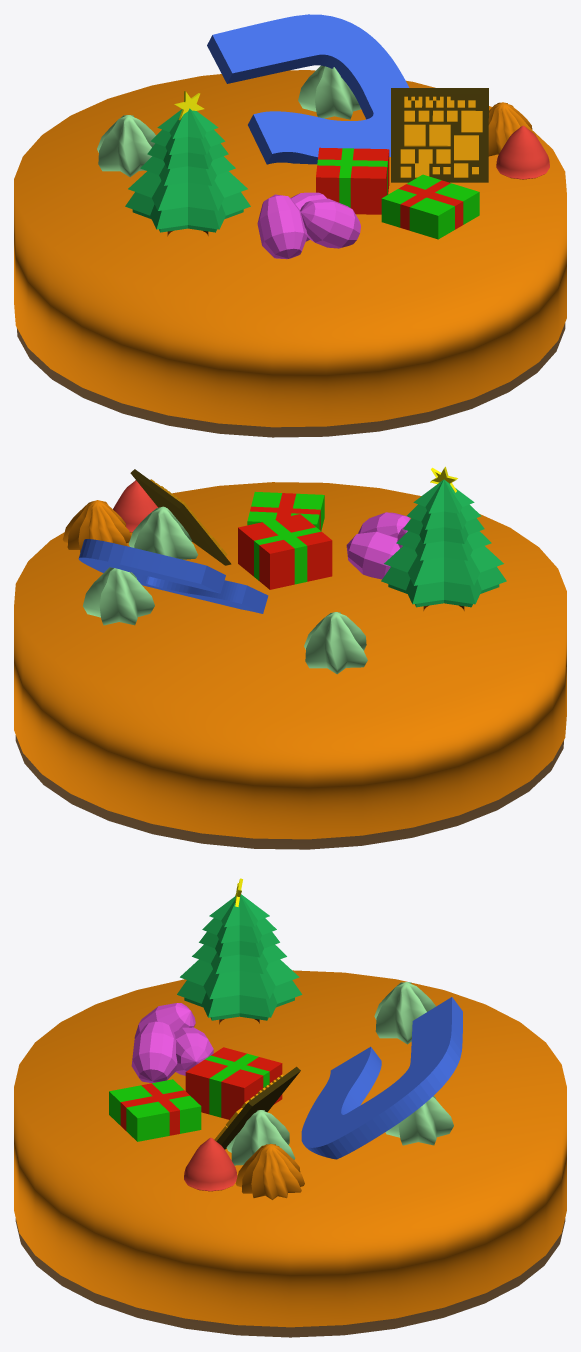
The model's file is FOXXI_MC.glb.
The picture shows the model from 3 angles, top to bottom: view 1: azimuth 30°, elevation 25°; view 2: azimuth 150°, elevation 25°; view 3: azimuth 270°, elevation 25°; orthographic projection.
Visible parts, largest first — view 1: cake_main_cream, verse, Circle, Cube, suponji_bot, Cube.002, Cube.001, cream02.001, egg, egg2, cream02.003, ichigo (+2 smaller); view 2: cake_main_cream, Circle, suponji_bot, verse, Cube.001, cream02.001, cream02.003, cream02.002, Cube.002, Cube, egg3, ichigo (+3 smaller); view 3: cake_main_cream, verse, Circle, suponji_bot, Cube.001, Cube.002, cream02.001, egg2, ichigo, cream02.002, cream02.003, Cube (+4 smaller).
Boxes of the visible parts, x1,y1,x2,y2 form: cake_main_cream: (14,70,566,427); verse: (207,14,409,164); Circle: (125,108,250,236); Cube: (391,88,488,182); suponji_bot: (17,323,565,437); Cube.002: (381,174,479,239); Cube.001: (316,147,389,214); cream02.001: (97,115,155,177); egg: (257,194,307,259); egg2: (300,198,360,248); cream02.003: (298,65,360,119); ichigo: (496,125,549,179); cake_main_cream: (14,482,566,839); Circle: (381,479,506,610); suponji_bot: (15,735,563,849); verse: (78,539,268,613); Cube.001: (238,514,332,589); cream02.001: (304,612,367,674); cream02.003: (83,567,154,625); cream02.002: (128,506,197,559); Cube.002: (247,491,324,530); Cube: (130,469,231,565); egg3: (346,531,399,579); ichigo: (113,480,157,532); cake_main_cream: (14,970,566,1327); verse: (301,997,462,1159); Circle: (177,894,302,1024); suponji_bot: (15,1218,565,1337); Cube.001: (185,1047,282,1119); Cube.002: (109,1079,201,1141); cream02.001: (374,982,435,1044); egg2: (131,1021,177,1082); ichigo: (184,1137,237,1191); cream02.002: (226,1110,295,1165); cream02.003: (385,1096,453,1145); Cube: (214,1066,300,1149).
Bounding box in the file's own units: 6.76 × 3.77 × 6.76.
